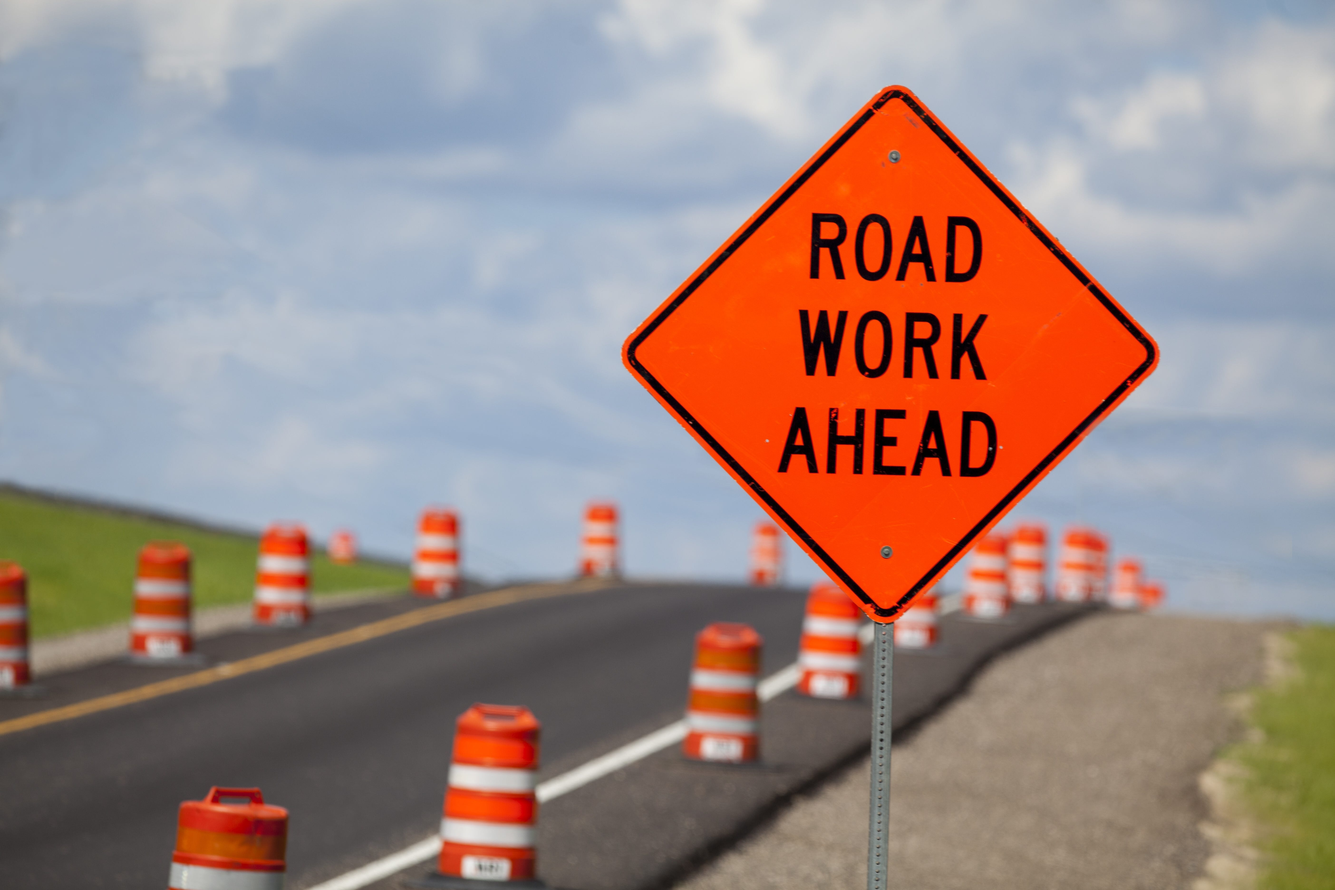Road_workahead: (617, 87, 1143, 618)
